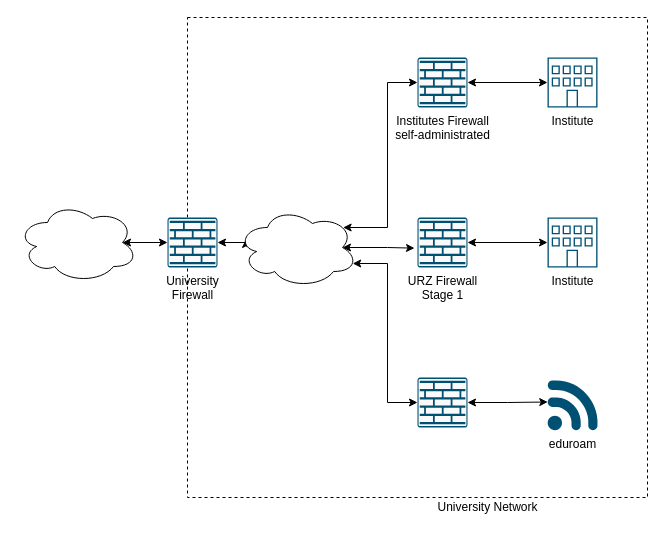
Some shapes in this 665 by 535 pixel diagram are drawn without their labels. The box of each missing label's shape, as (x1, y1, x2, y2) in pixels:
HDnet: (236, 206, 358, 288)
Internet: (16, 202, 138, 282)
URZ Firewall TagungsLAN: (416, 376, 468, 428)
